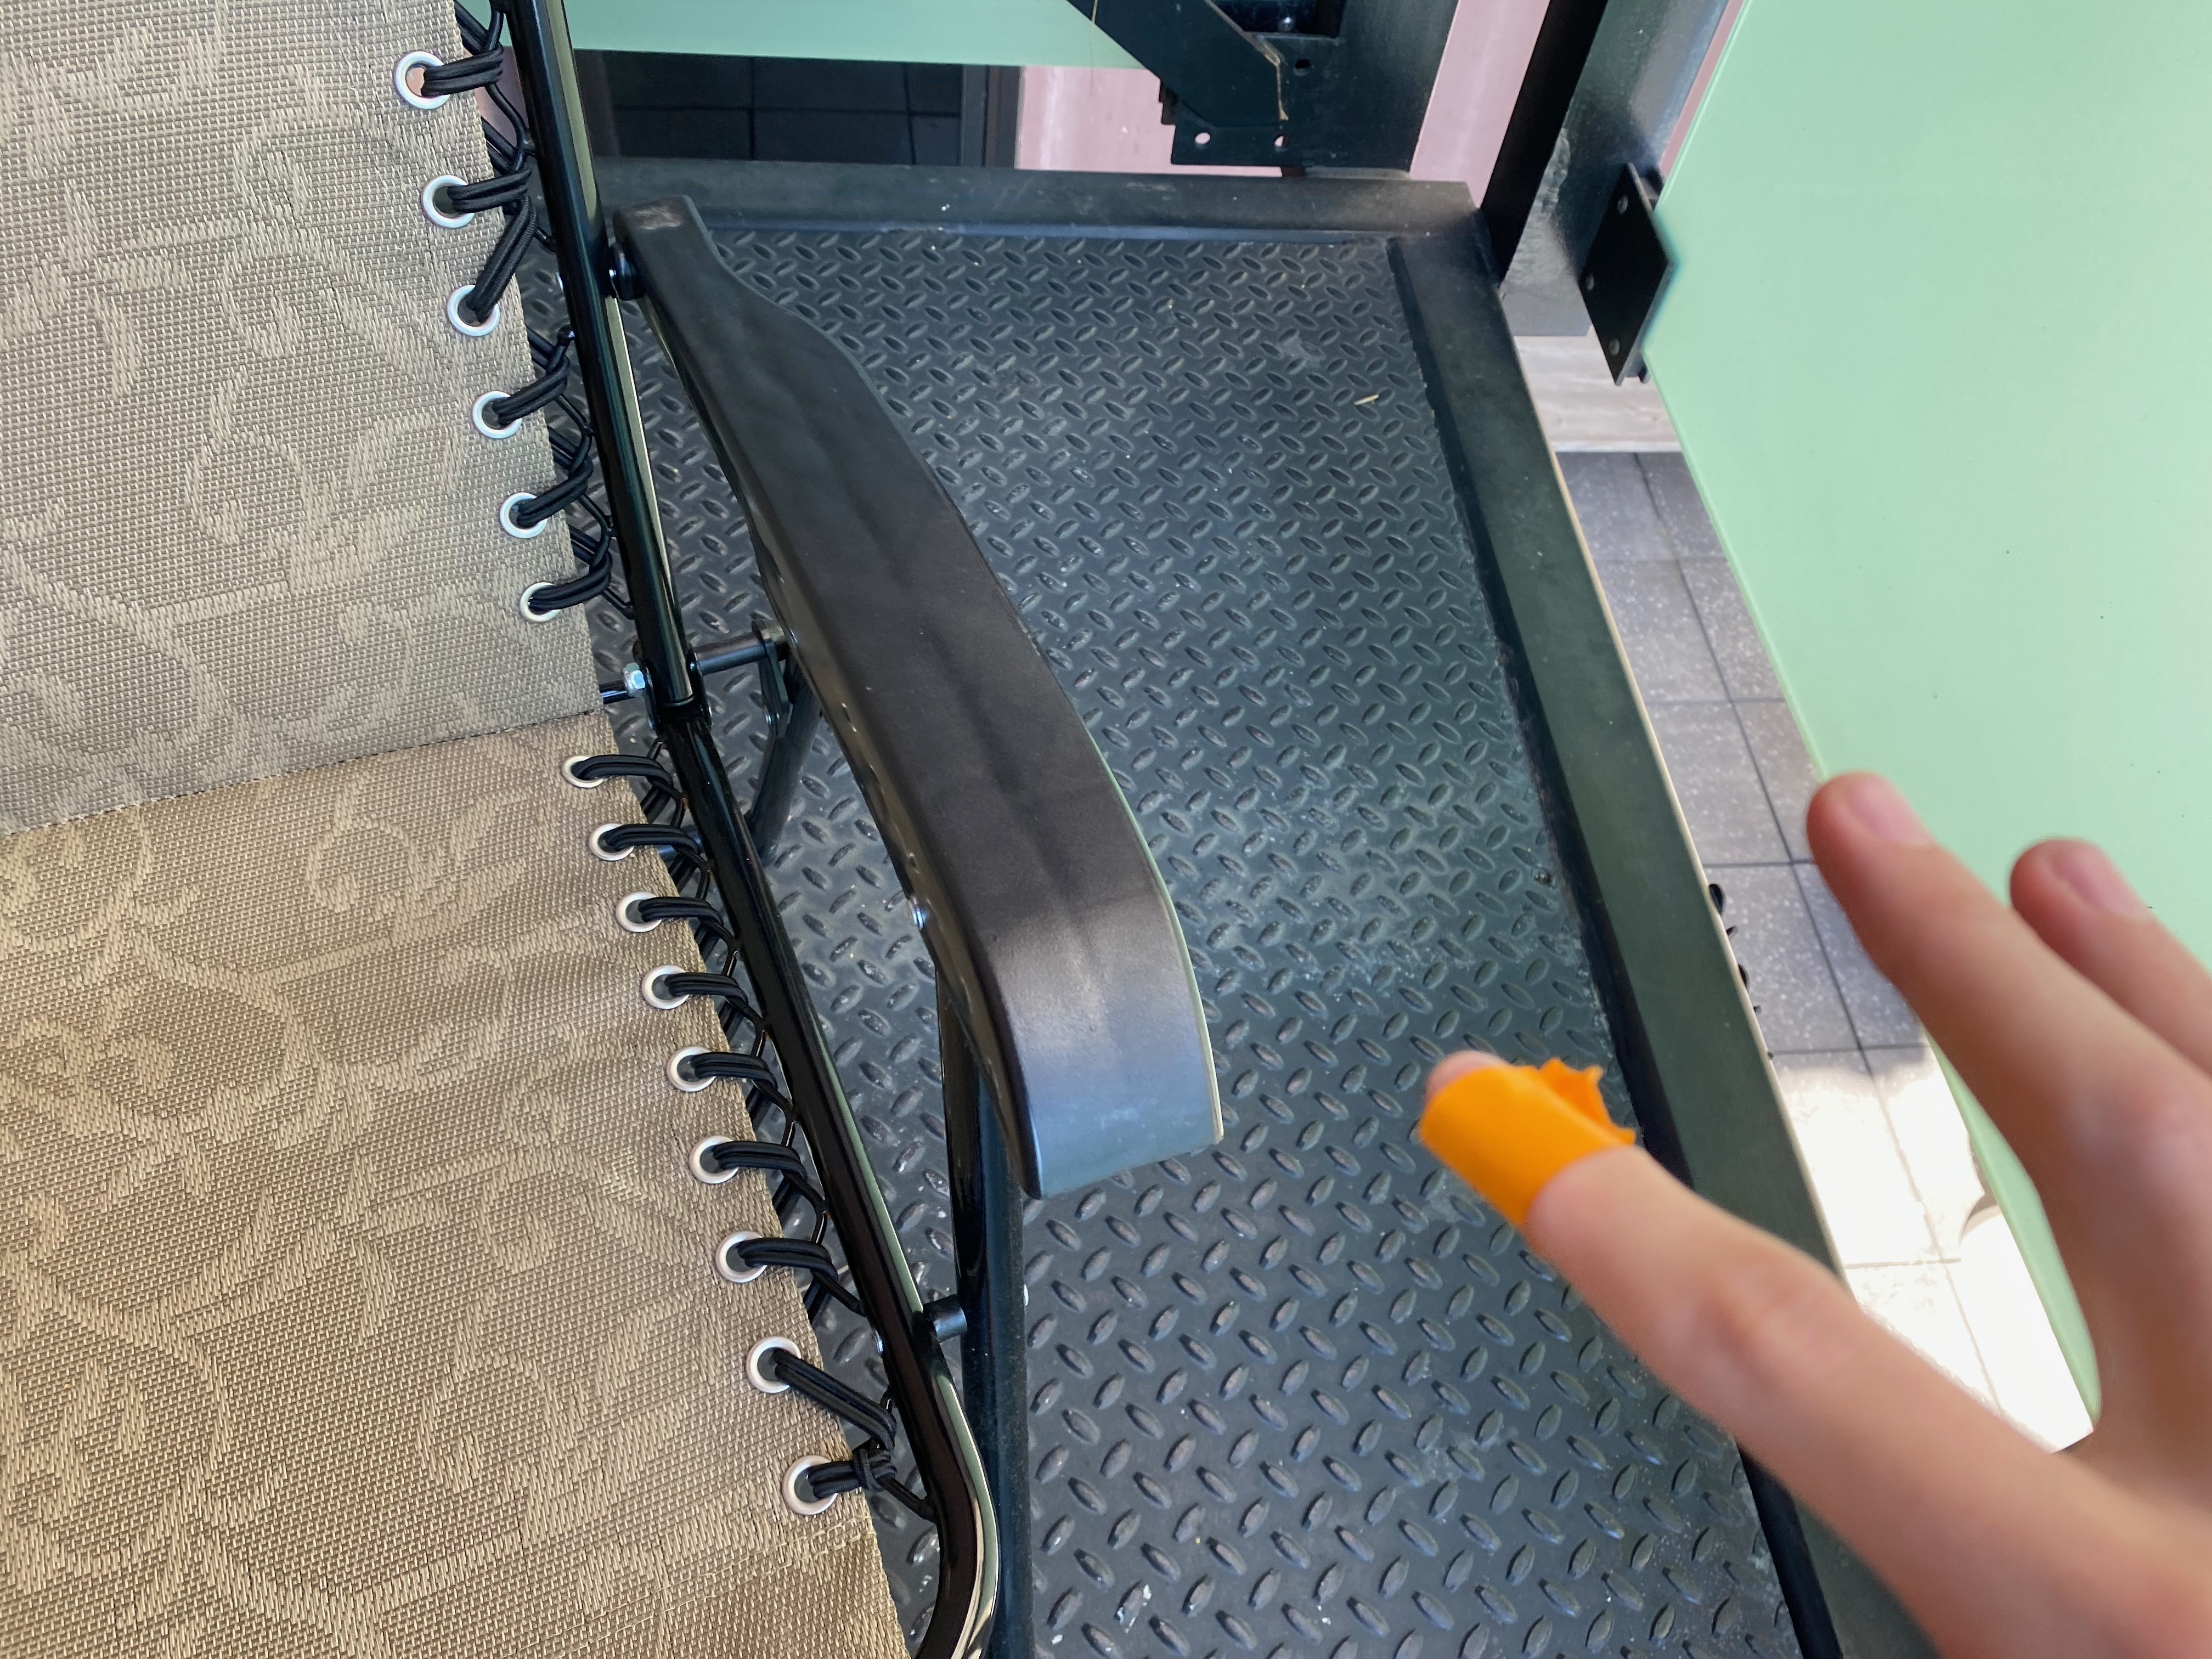fingertip: (1392, 1039, 1623, 1260)
